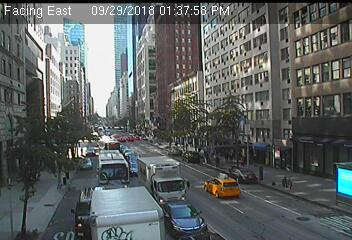car: (89, 186, 165, 240), (137, 156, 189, 208), (71, 187, 111, 240), (163, 200, 207, 236), (97, 149, 129, 193), (203, 174, 240, 199), (222, 165, 257, 185), (104, 141, 119, 160), (182, 151, 200, 164), (128, 160, 141, 176), (78, 158, 92, 170), (167, 146, 181, 157), (127, 154, 139, 163), (123, 149, 133, 158), (85, 148, 95, 156)
